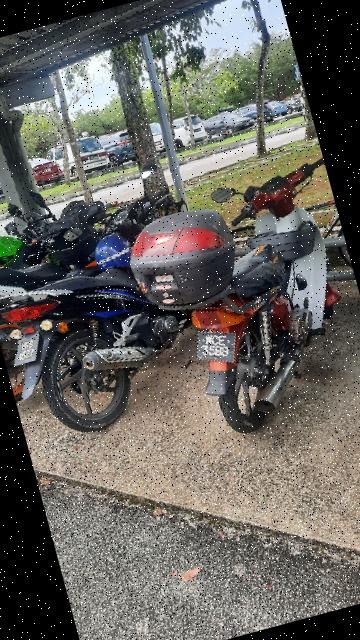License_Plate: (188, 317, 249, 376), (8, 330, 48, 370)
motorcycle: (1, 143, 258, 454), (113, 146, 360, 452)
